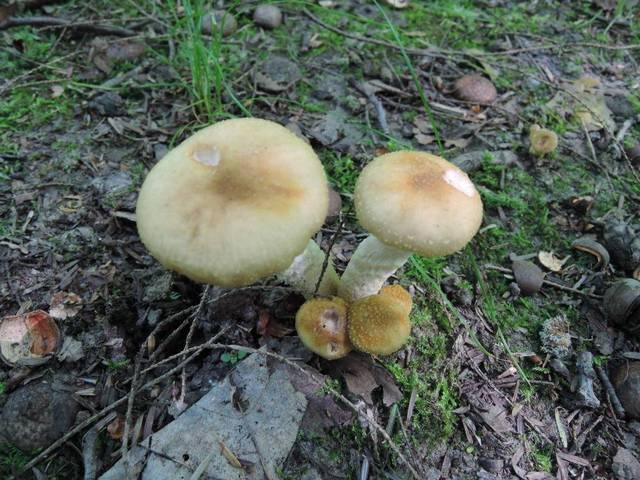Edible Mushroom: (134, 115, 331, 289), (337, 148, 483, 302), (293, 294, 416, 363)
